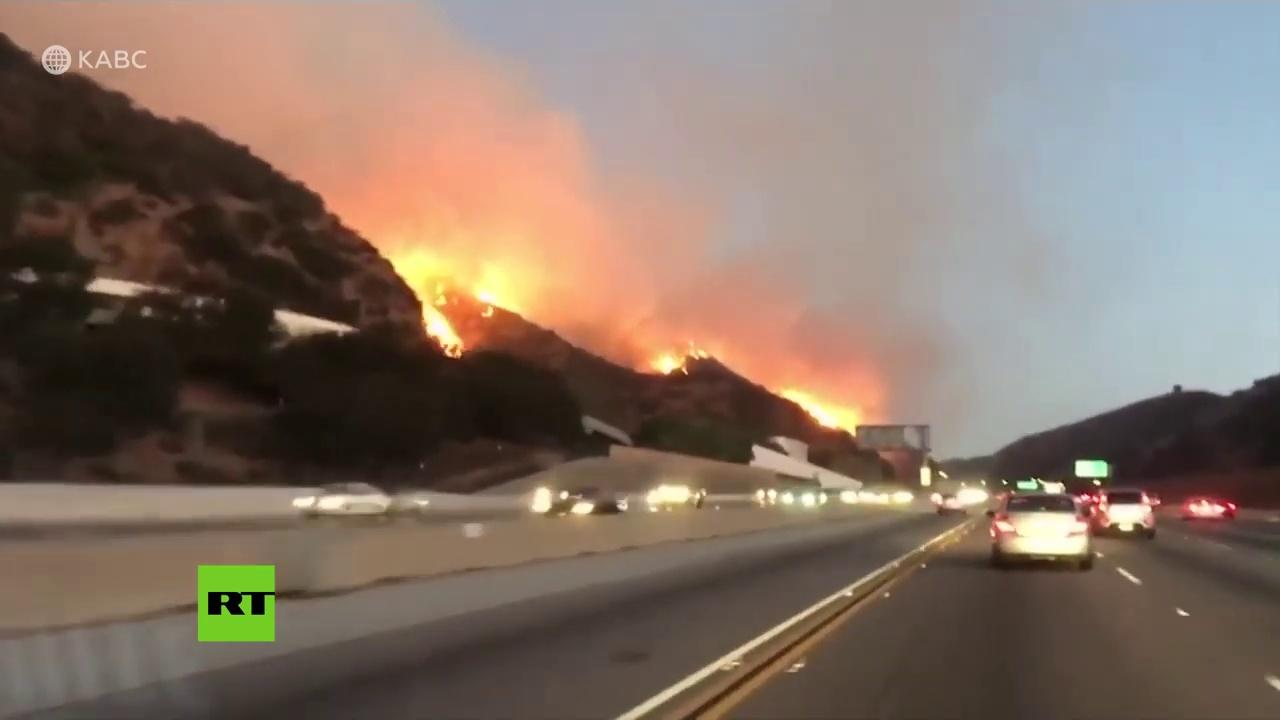Fire: (390, 243, 526, 362), (778, 387, 862, 434), (649, 343, 710, 378)
